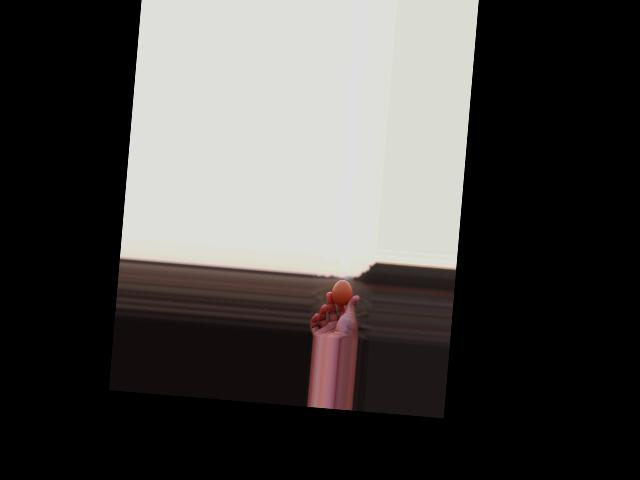egg: (330, 279, 353, 306)
